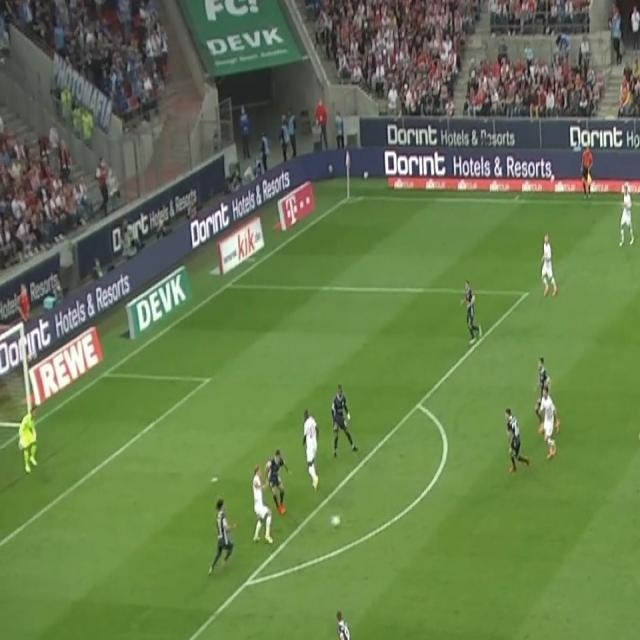ball: (329, 511, 341, 529)
